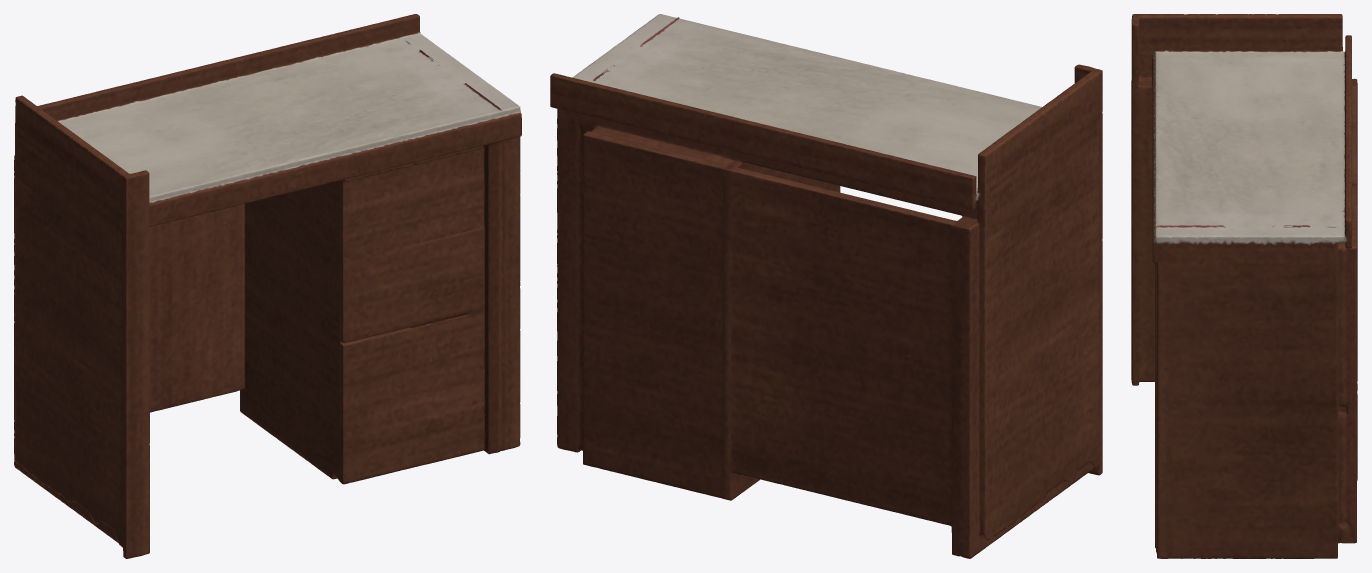
File: phone_desk.glb
3 renders of one model, left to right at view 1: azimuth 30°, elevation 25°; view 2: azimuth 150°, elevation 25°; view 3: azimuth 270°, elevation 25°, orthographic. The views are drawn at different scales.
Size of the model in its own units: 0.9965 by 0.8903 by 0.5047.
